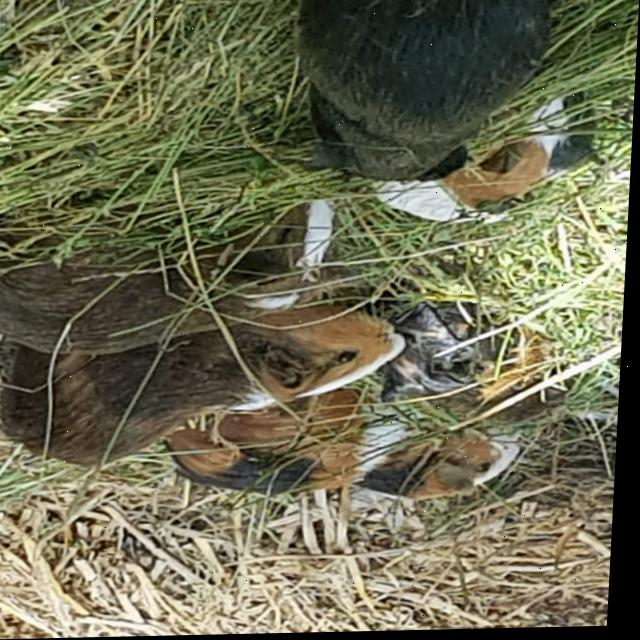guinea pig: (0, 306, 425, 472), (0, 169, 351, 358), (268, 0, 549, 196), (162, 401, 548, 533), (374, 93, 615, 234), (363, 274, 568, 438)
